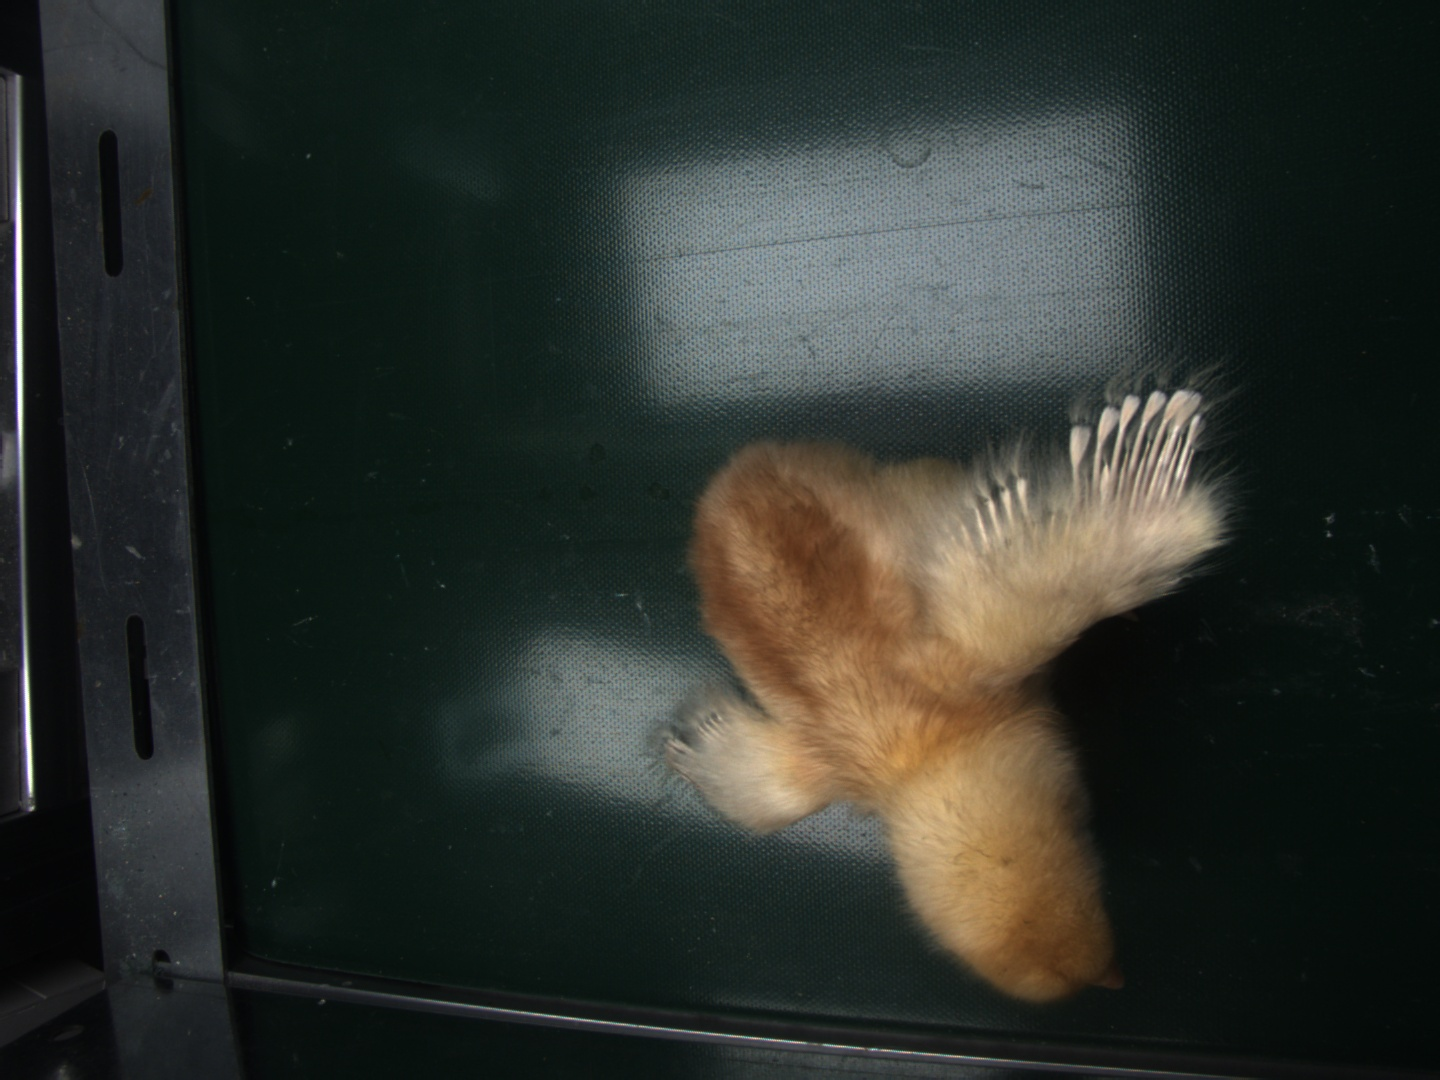female: (1084, 393, 1210, 493)
